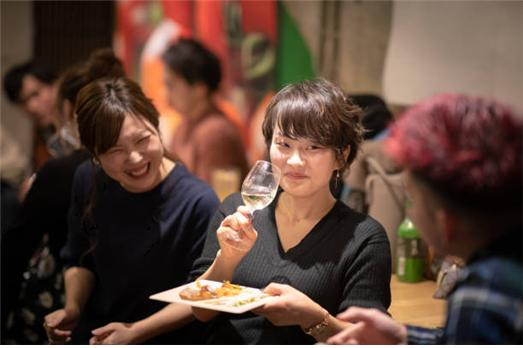alcohol: (220, 159, 283, 253), (393, 197, 425, 284), (43, 323, 77, 348)
